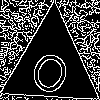O: (26, 40, 78, 100)
